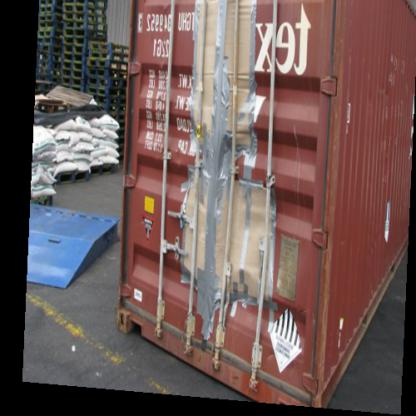Damage: (181, 3, 280, 339)
